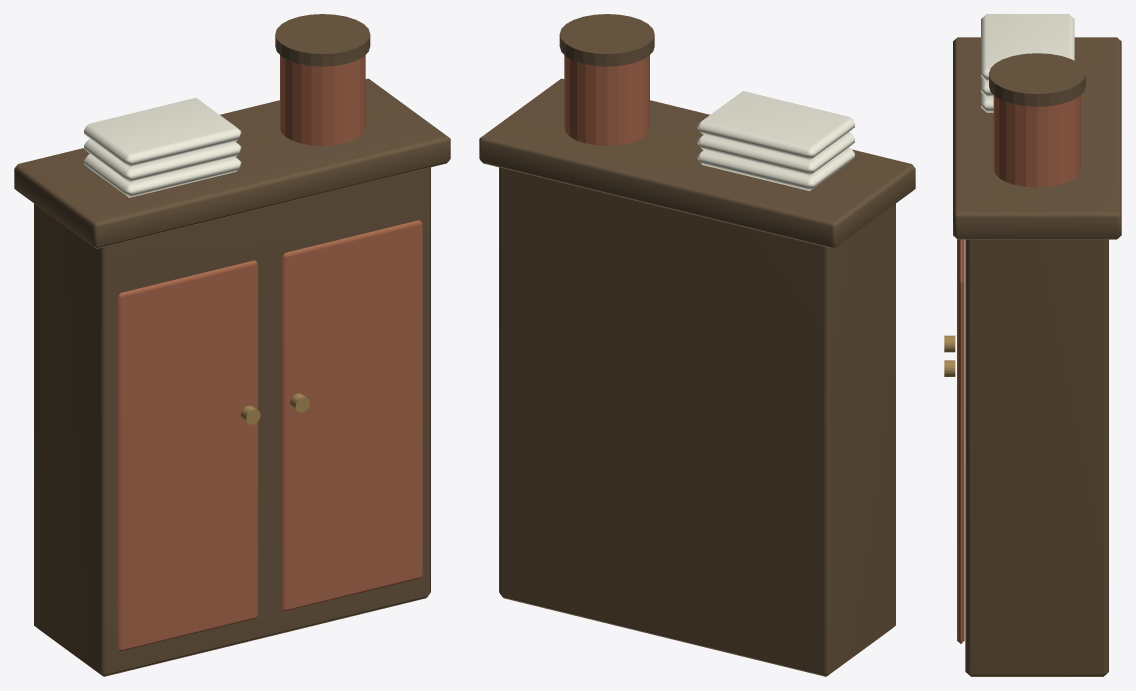
The model's file is home_cupboard.glb.
3 renders of one model, left to right at view 1: azimuth 30°, elevation 25°; view 2: azimuth 150°, elevation 25°; view 3: azimuth 270°, elevation 25°, orthographic.
Visible parts, largest first — view 1: recessed cupboard panel, cupboard body, folded linen; view 2: cupboard body, folded linen, recessed cupboard panel; view 3: cupboard body, recessed cupboard panel, folded linen, brass cupboard pull.
Boxes of the visible parts, <box> form: recessed cupboard panel: <box>117,55,422,651</box>; cupboard body: <box>14,14,450,676</box>; folded linen: <box>84,97,241,197</box>; cupboard body: <box>479,14,915,676</box>; folded linen: <box>697,91,854,190</box>; recessed cupboard panel: <box>564,55,649,145</box>; cupboard body: <box>953,37,1121,676</box>; recessed cupboard panel: <box>957,95,1080,643</box>; folded linen: <box>981,14,1074,112</box>; brass cupboard pull: <box>944,335,955,376</box>.
Size of the model in its own units: 1.35 by 2.01 by 0.5675.
